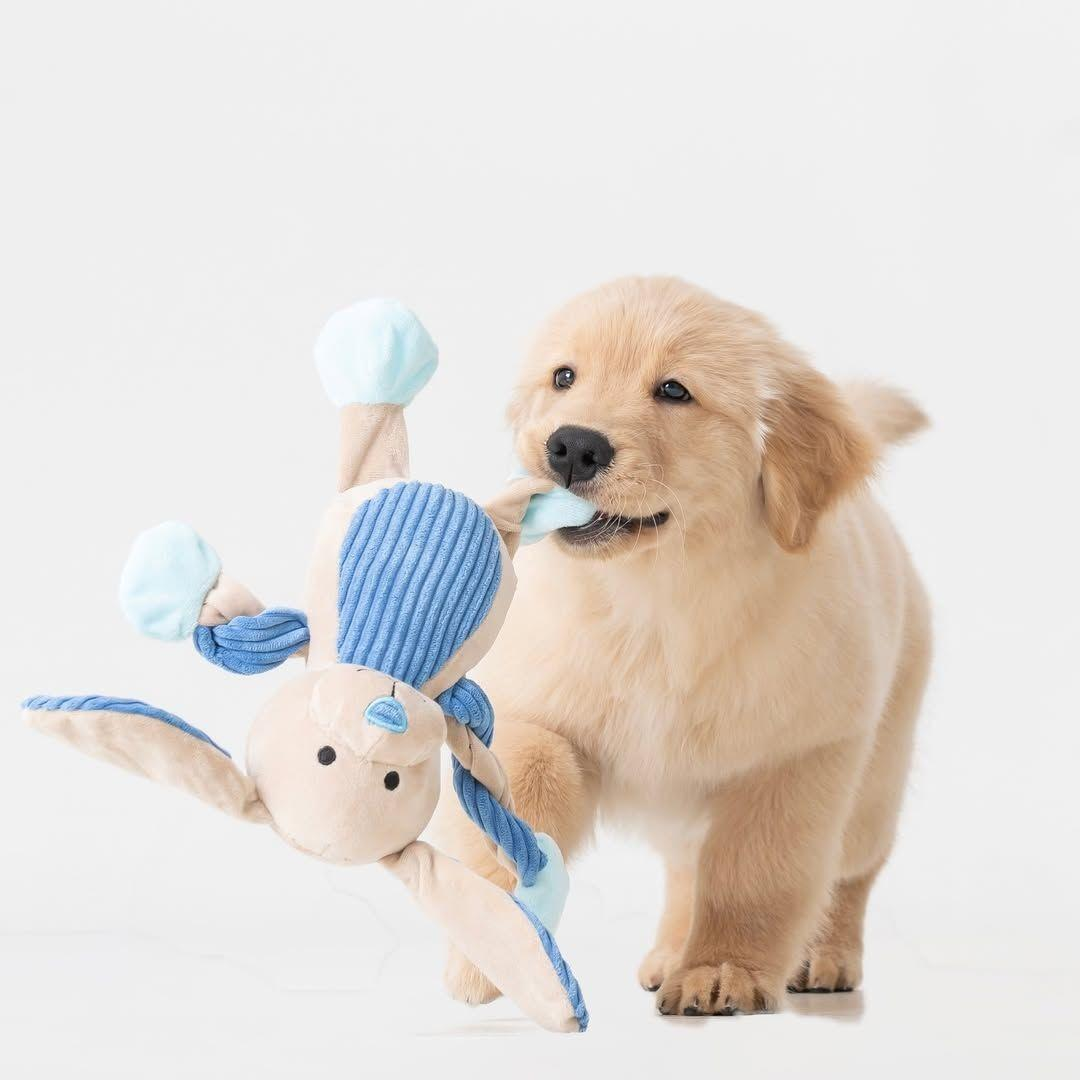non-dog: (19, 298, 596, 1030)
puppy-dog: (440, 268, 943, 1028)
